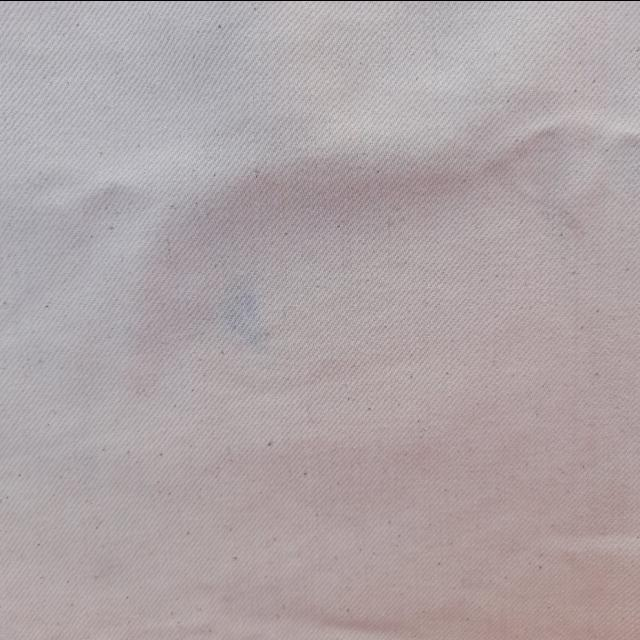taaaches: (217, 276, 283, 354)
